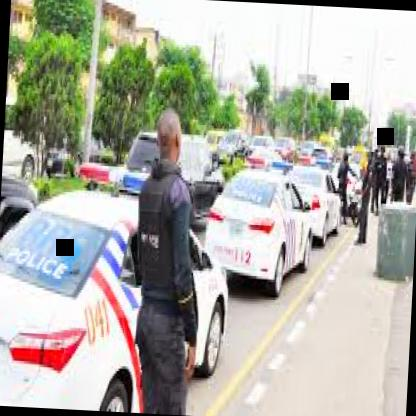car: (0, 163, 246, 416), (200, 149, 318, 304), (288, 159, 348, 256)
